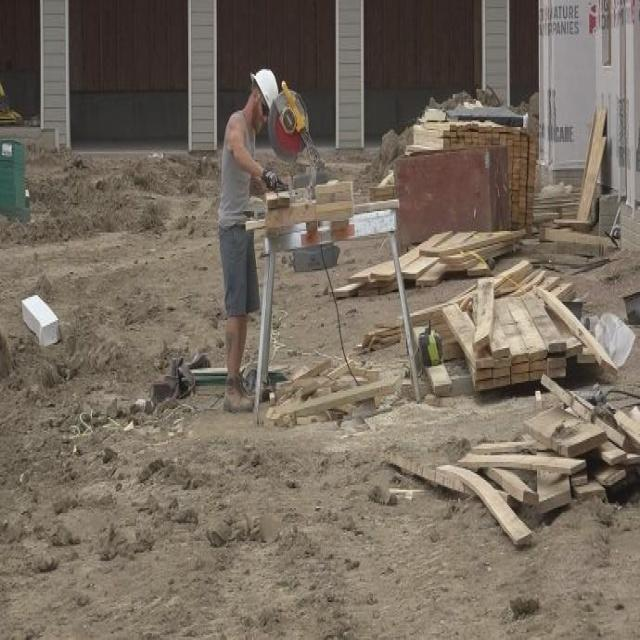helmet: (246, 88, 278, 172)
